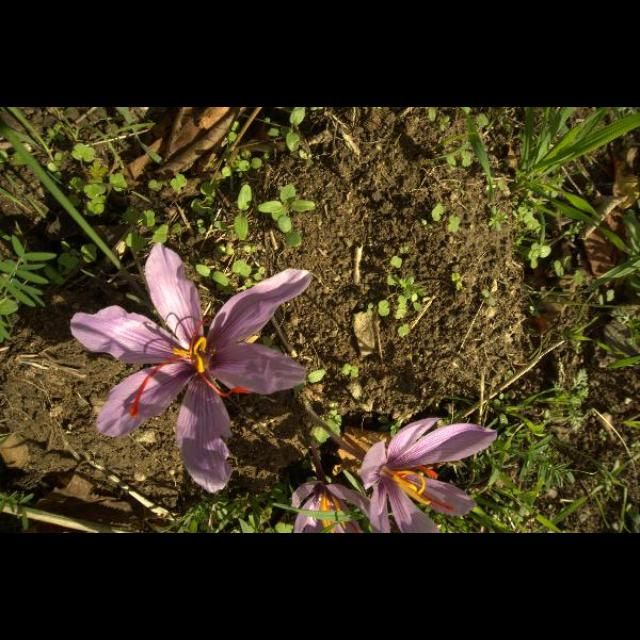flower: (70, 243, 312, 492), (360, 418, 498, 534), (290, 477, 372, 533)
